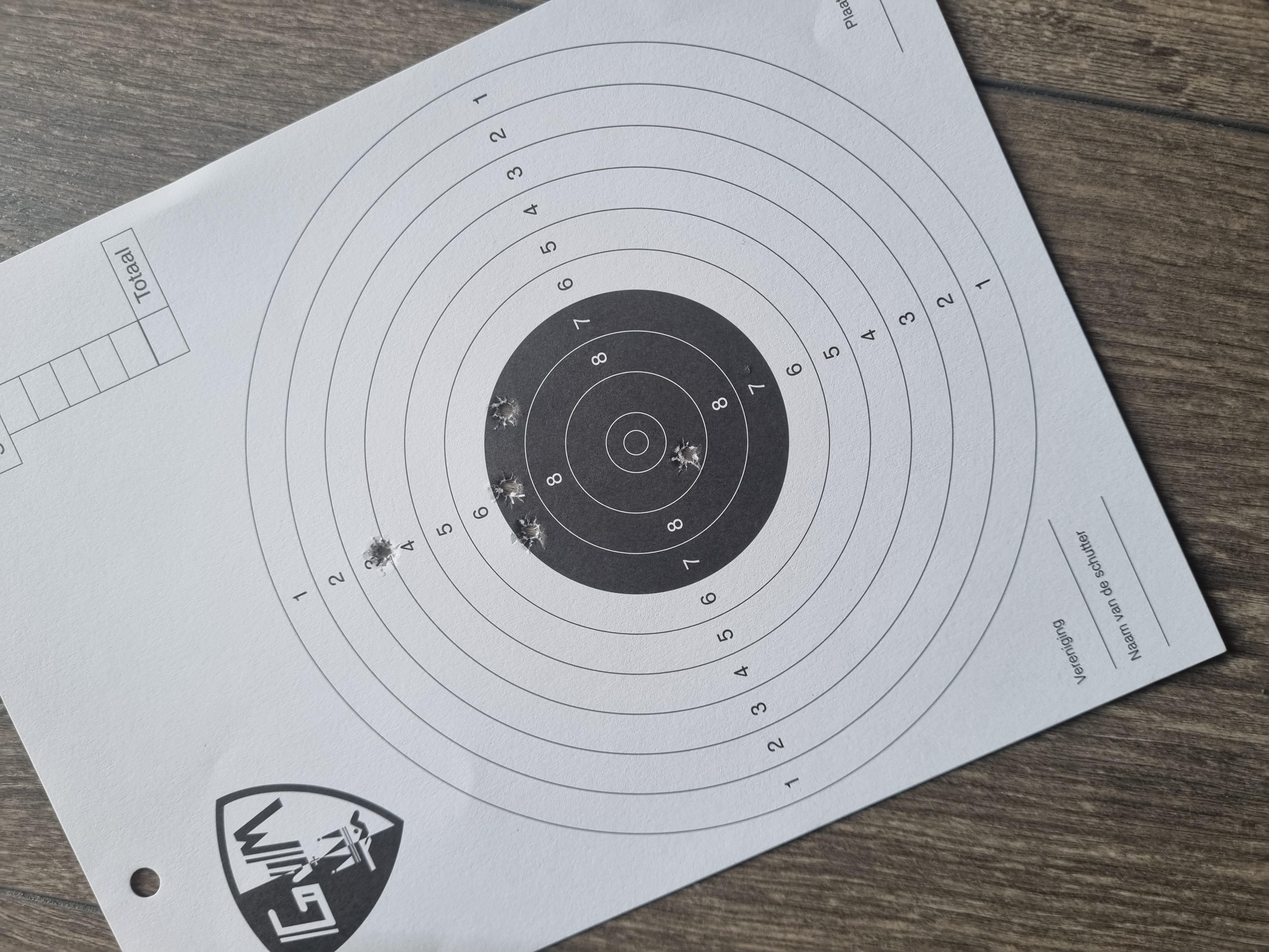hole: (529, 384, 583, 410), (588, 368, 642, 393), (502, 274, 550, 298), (696, 366, 742, 391), (636, 504, 682, 526)
